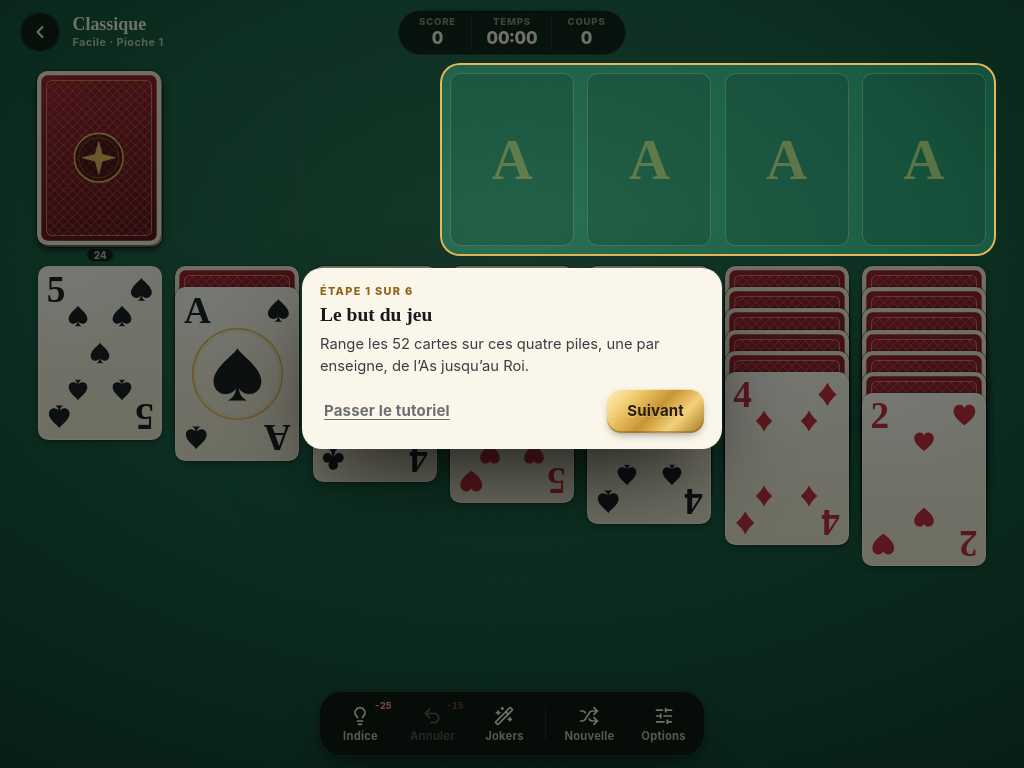
Test: en partie › guide le tutoriel pas a pas et le laisse passer
This screenshot has width=1024, height=768.
Expected: the text "Le but du jeu" is shown, [320,304,432,325]
Click the button "Suivant": (656, 411) [607,389,704,433]
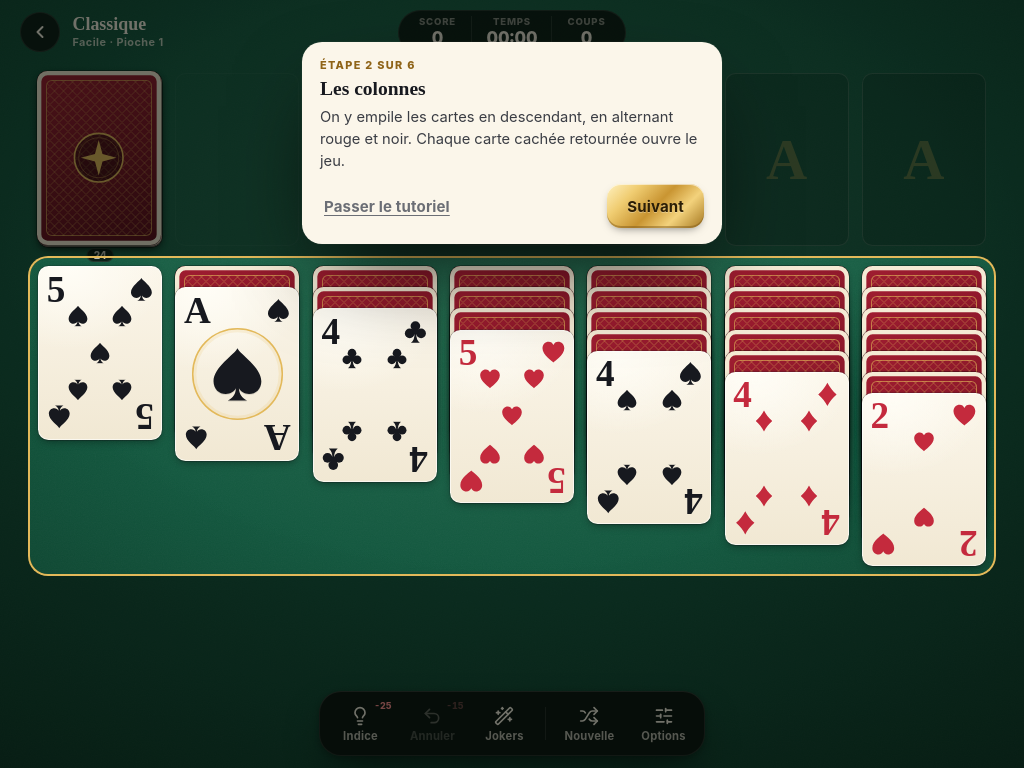
Expected: the text "Les colonnes" is shown, [320,78,426,99]
Click the button "Suivant": (656, 206) [607,184,704,228]
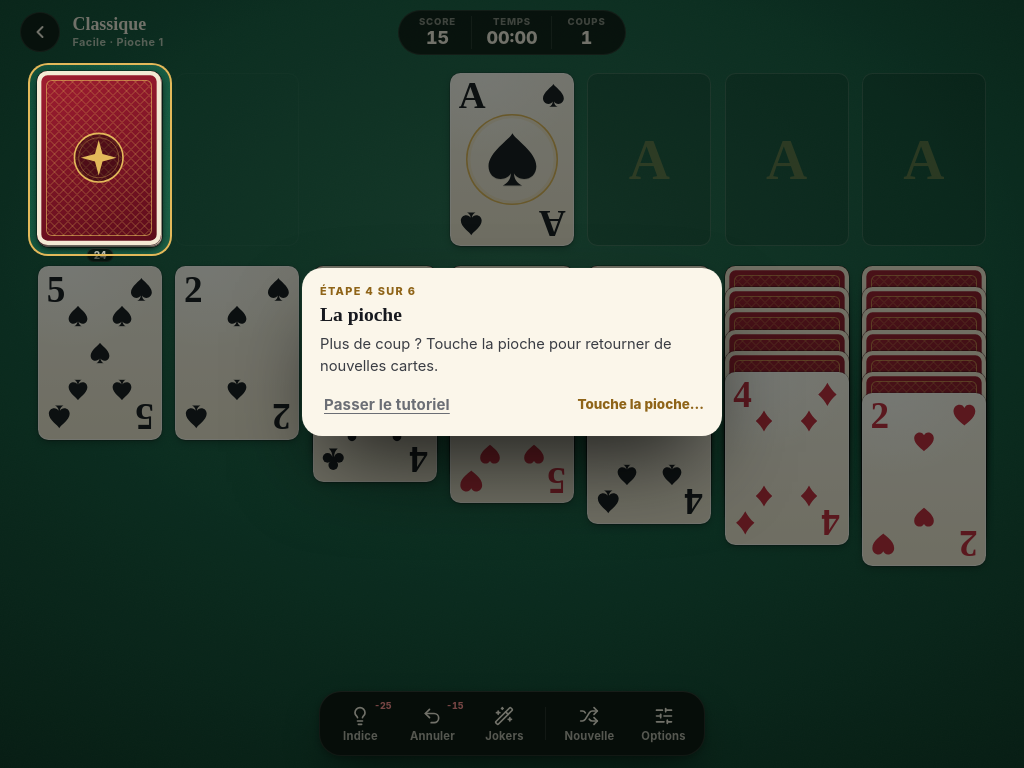
Expected: the text "La pioche" is shown, [320,304,402,325]
Click the button "Passer le tutoriel": (387, 404) [320,389,454,420]
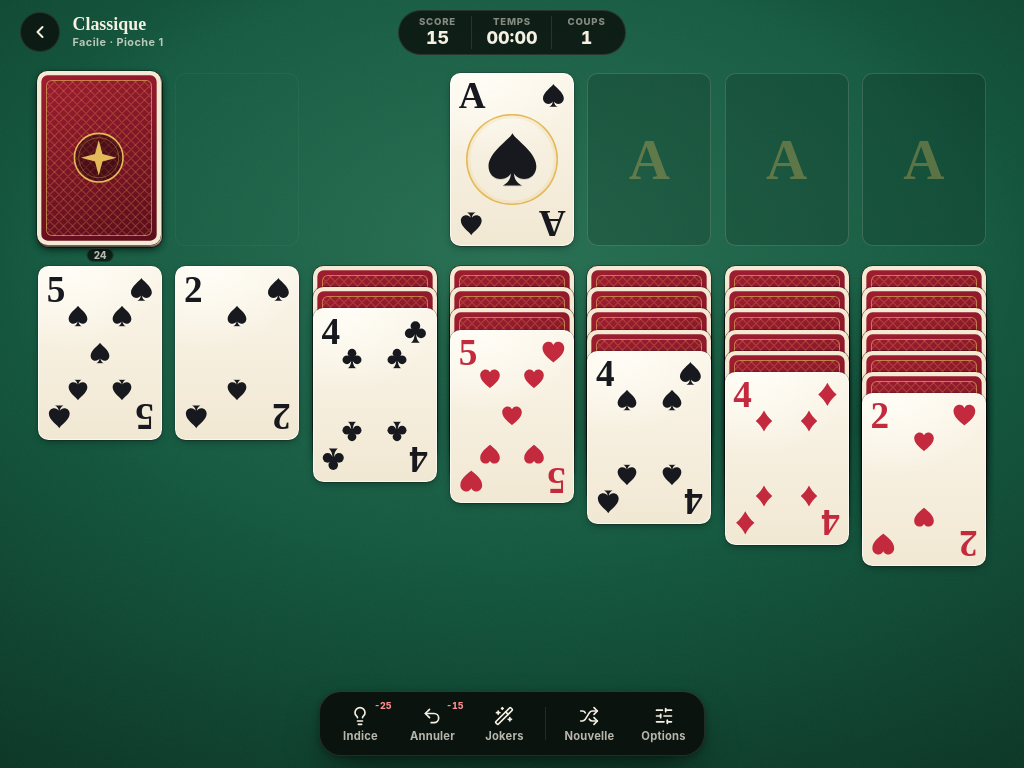
Expected: the text "La pioche" is gone
